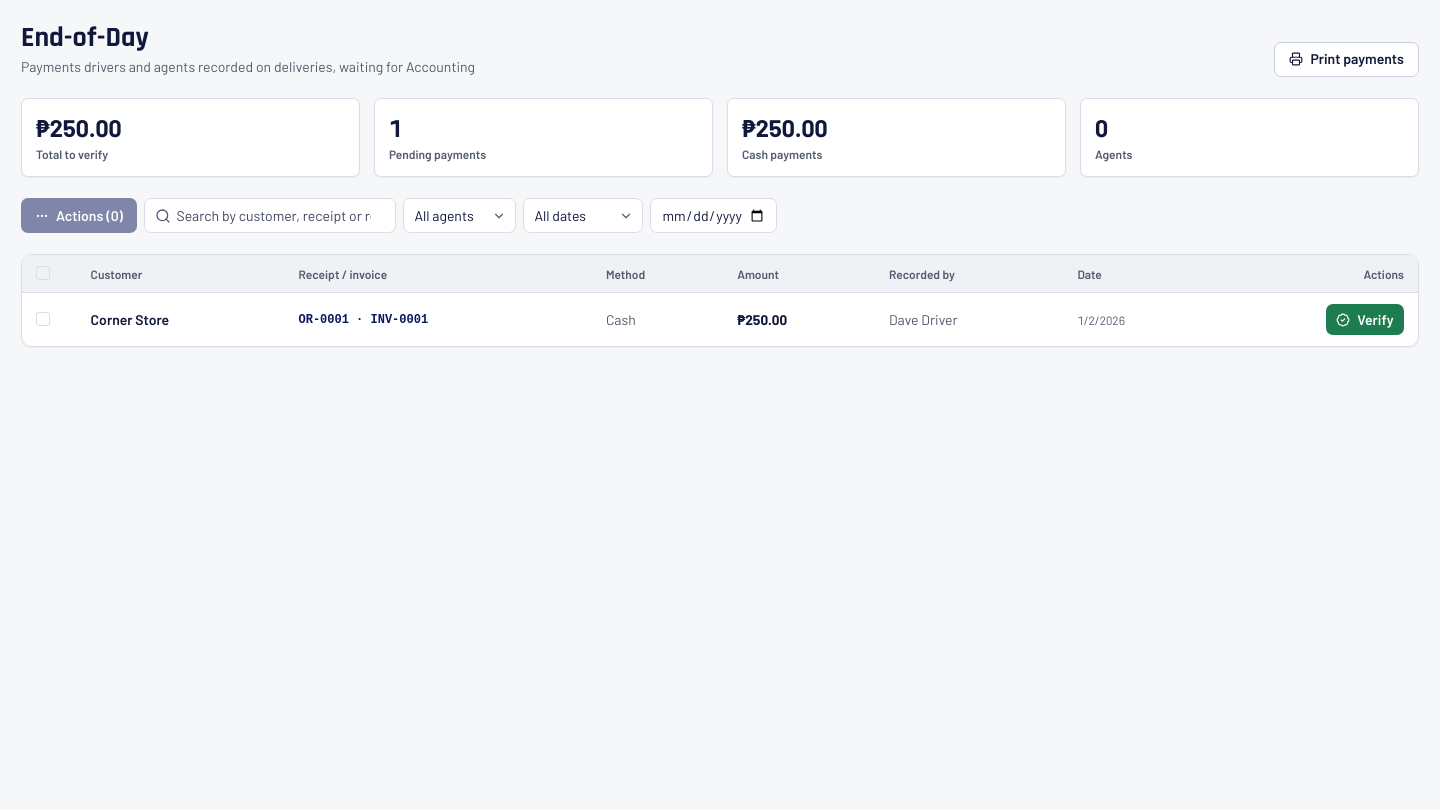
PaymentVerification › offers bulk actions after selecting a payment
Click the checkbox named "Select payment OR-0001". click: [43, 318]
box: [36,312,50,326]
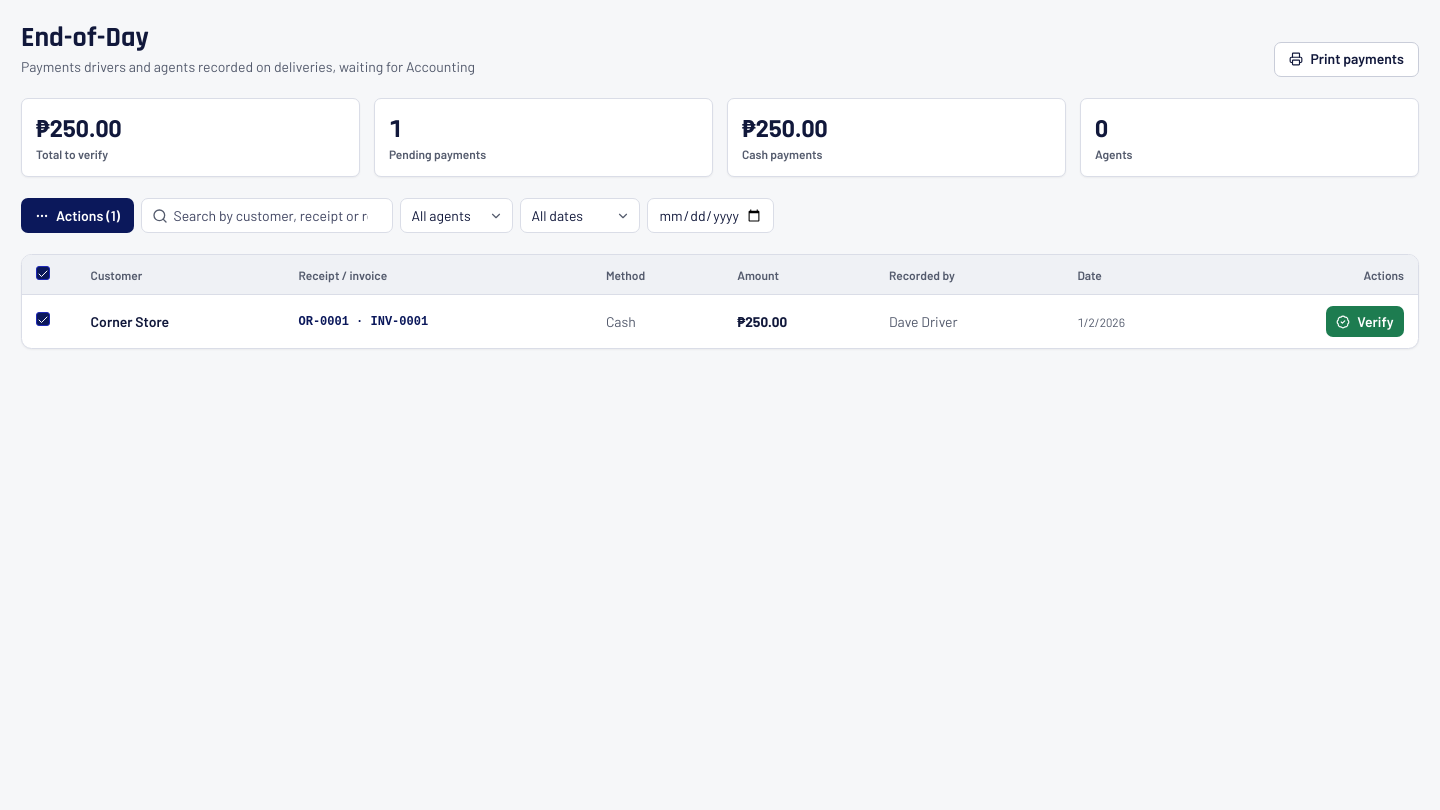
Press the mouse on the button "Actions (1)" at [78, 216], box [21,198,134,233]
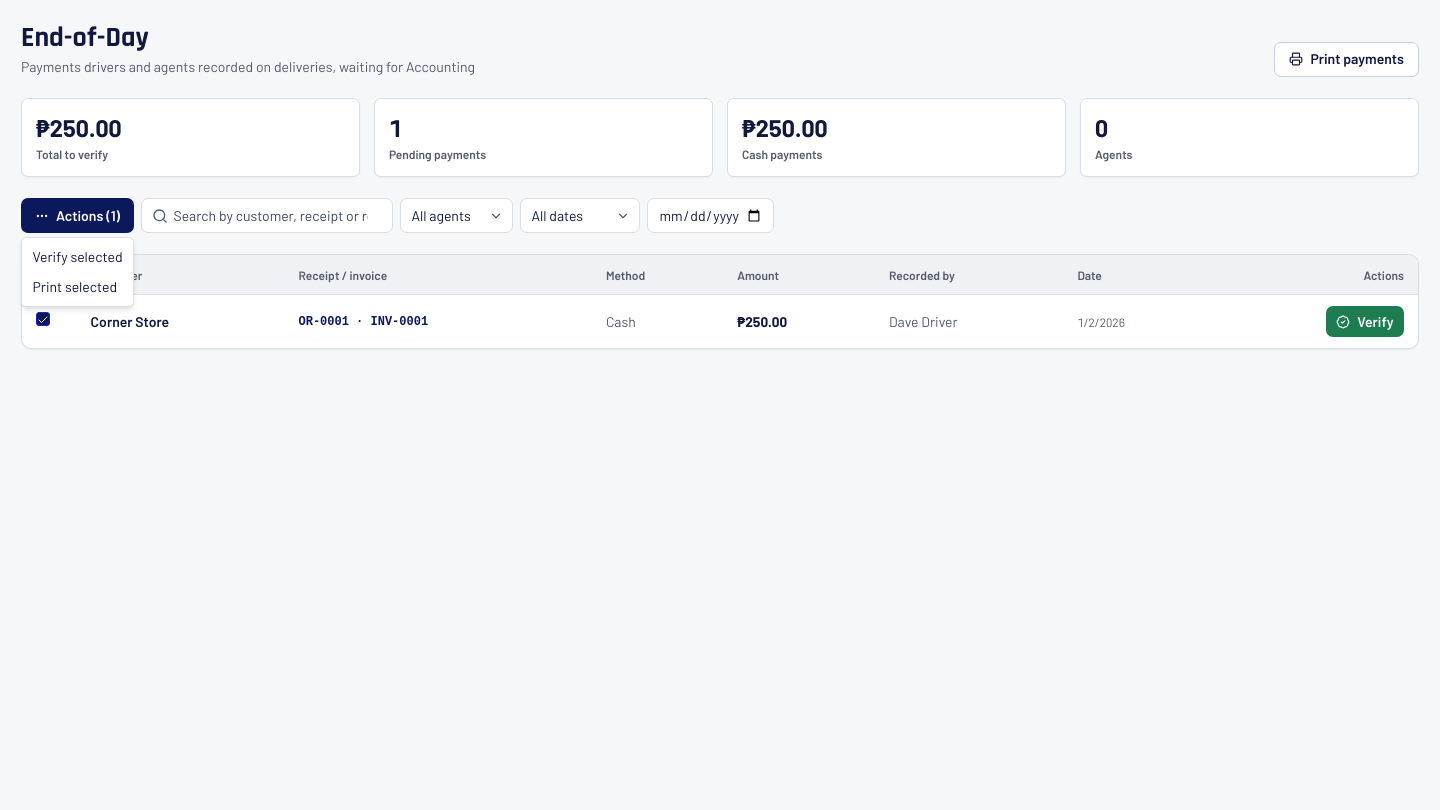
Expected: the menu item "Print selected" is shown, [32,278,117,295]
Click the menu item "Verify selected". click: [78, 256]
box: [32,248,123,265]
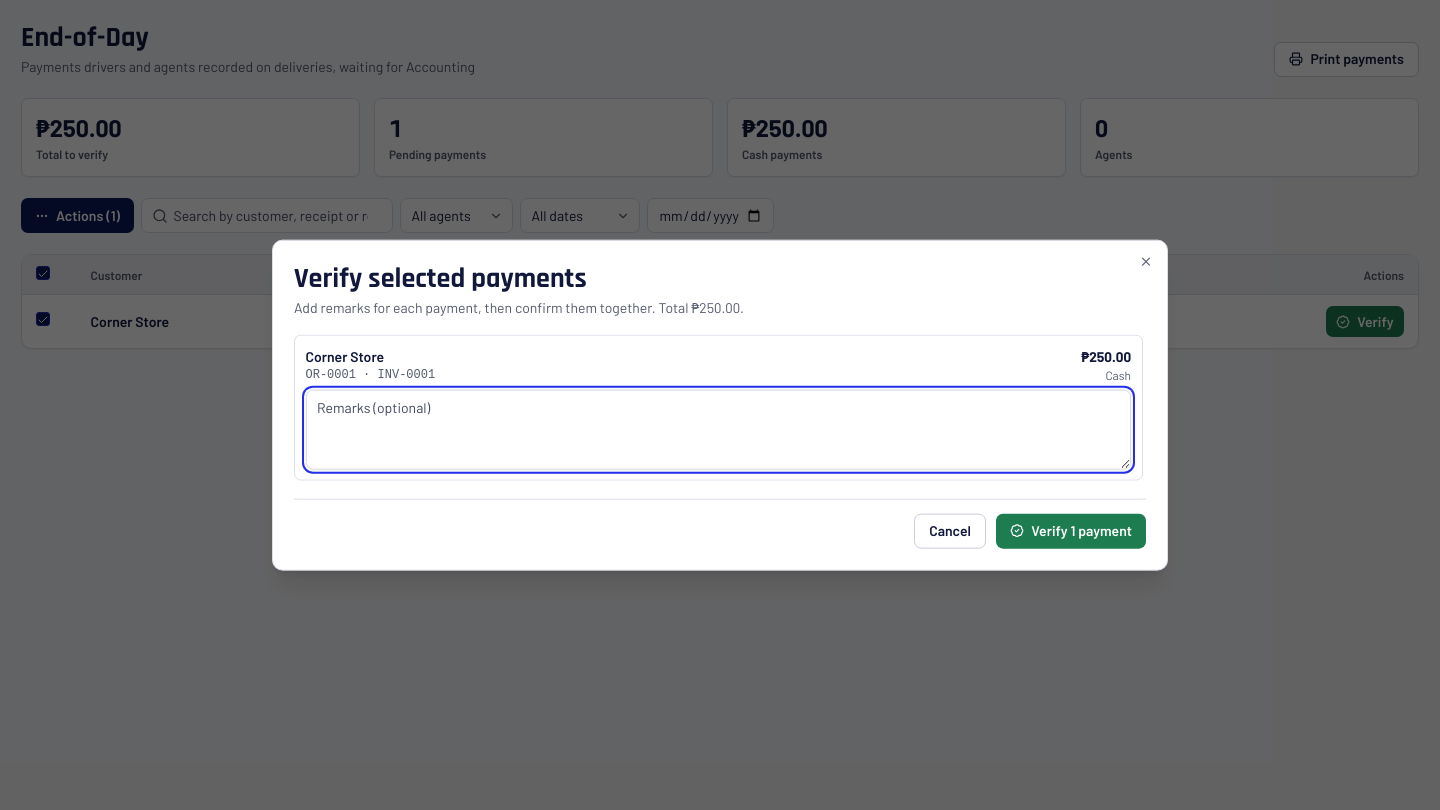
Expected: the dialog is shown, [272,240,1168,570]
